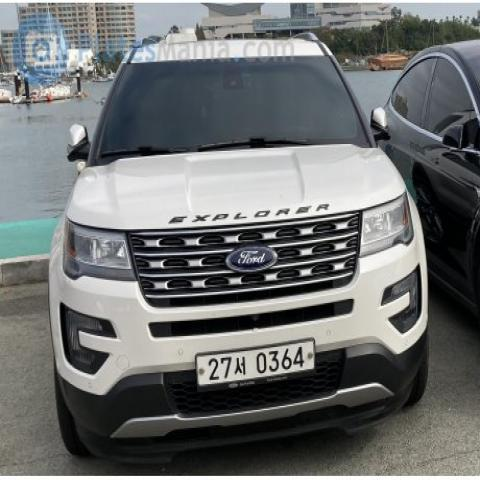LP: (191, 335, 321, 390)
